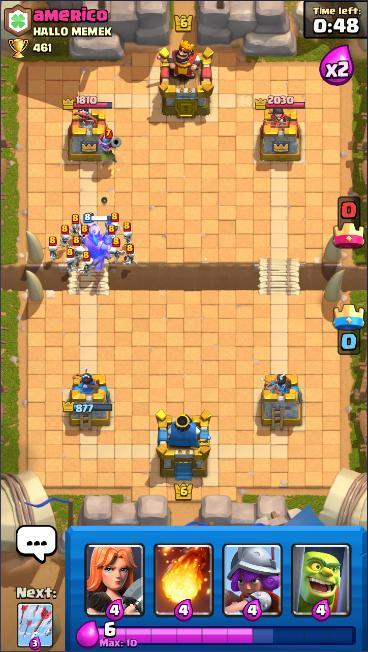ally_prince: (82, 211, 118, 274)
enemy_musketeer: (98, 126, 122, 157)
enemy_skeleton: (46, 234, 60, 264), (121, 220, 135, 249), (70, 234, 84, 262), (80, 249, 94, 277), (63, 247, 77, 274), (121, 243, 137, 266), (58, 223, 72, 249), (107, 212, 122, 236), (70, 212, 83, 238), (110, 237, 123, 263), (77, 225, 93, 245), (106, 224, 119, 247)
